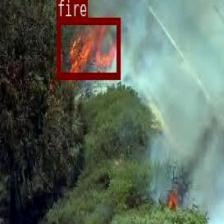fire: (56, 17, 120, 78)
